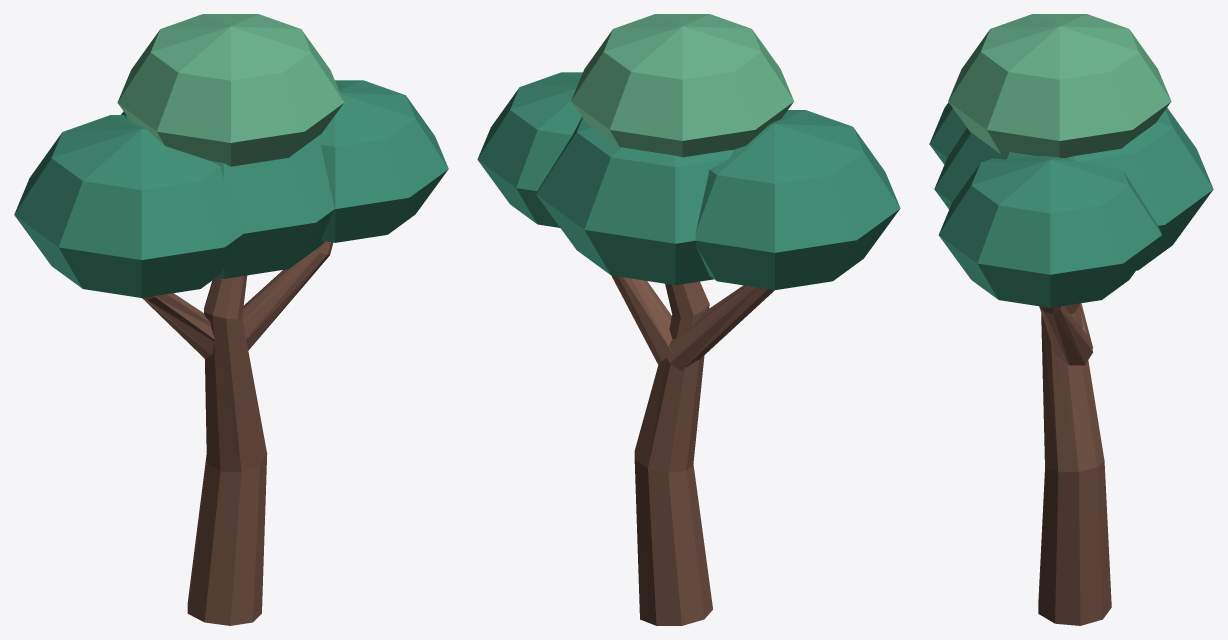
Rendered from tree.obj.
3 renders of one model, left to right at view 1: azimuth 30°, elevation 25°; view 2: azimuth 150°, elevation 25°; view 3: azimuth 270°, elevation 25°, orthographic.
Parts seen in each view (by area): view 1: tree; view 2: tree; view 3: tree.
Part boxes in pixels (x1=…): tree: x1=14, y1=14, x2=448, y2=625; tree: x1=477, y1=14, x2=900, y2=625; tree: x1=929, y1=14, x2=1213, y2=625.
Bounding box in the file's own units: 9.54 × 13.63 × 6.01.
